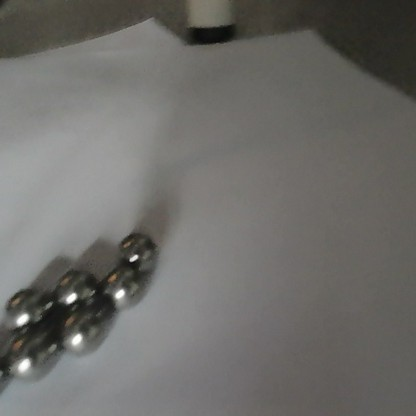ironball: (6, 331, 65, 387), (58, 309, 110, 361), (2, 282, 55, 326), (96, 265, 147, 307), (117, 228, 160, 273), (52, 269, 97, 309)
